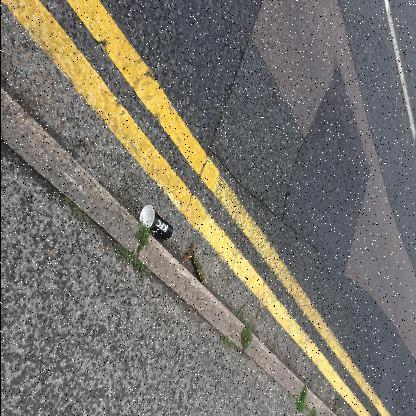cardboard: (138, 204, 174, 240)
